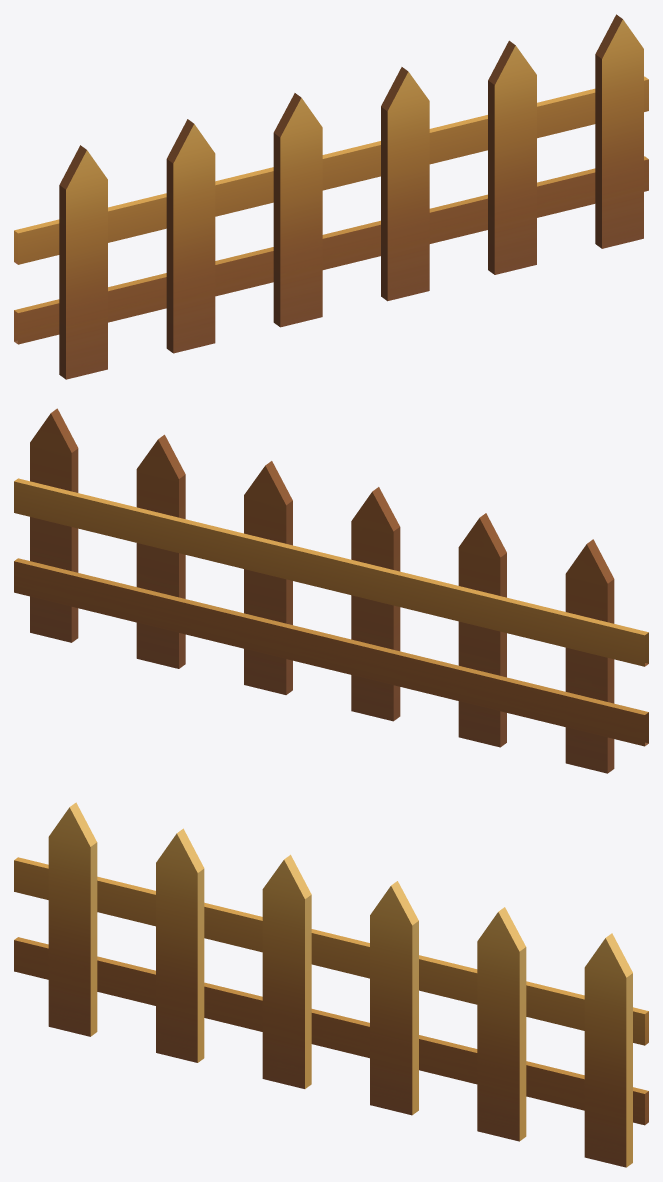
File: SM_Wooden_Fence.fbx
The picture shows the model from 3 angles, top to bottom: view 1: azimuth 30°, elevation 25°; view 2: azimuth 150°, elevation 25°; view 3: azimuth 330°, elevation 25°; orthographic projection.
Parts seen in each view (by area): view 1: SM_Wooden_Fence; view 2: SM_Wooden_Fence; view 3: SM_Wooden_Fence.
Boxes of the visible parts, x1=… form: SM_Wooden_Fence: x1=14, y1=14, x2=648, y2=379; SM_Wooden_Fence: x1=14, y1=408, x2=648, y2=773; SM_Wooden_Fence: x1=14, y1=802, x2=648, y2=1167.
Size of the model in its own units: 375 by 128 by 11.15.
